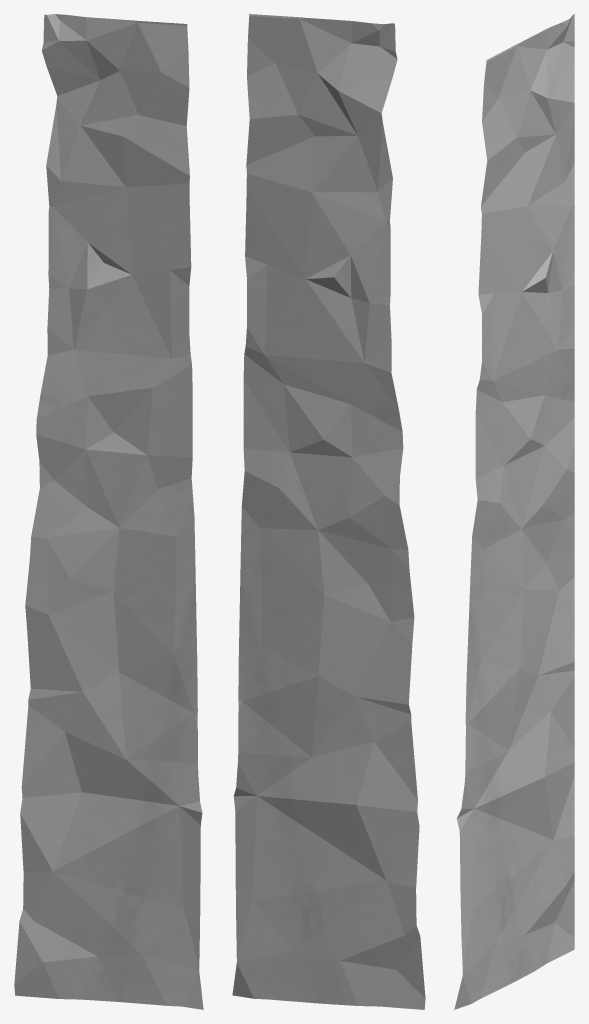
The picture shows the model from 3 angles, left to right: view 1: azimuth 30°, elevation 25°; view 2: azimuth 210°, elevation 25°; view 3: azimuth 270°, elevation 25°; orthographic projection. The views are drawn at different scales.
Bounding box in the file's own units: 0.1148 × 0.8373 × 0.0963.
1 material, 1 textured.
